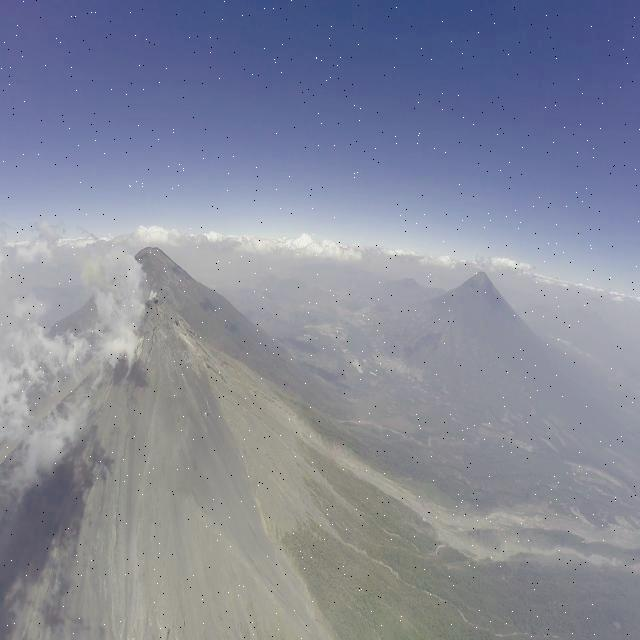Plume: (80, 253, 111, 299), (140, 292, 170, 312)
Summit: (115, 288, 207, 371)
